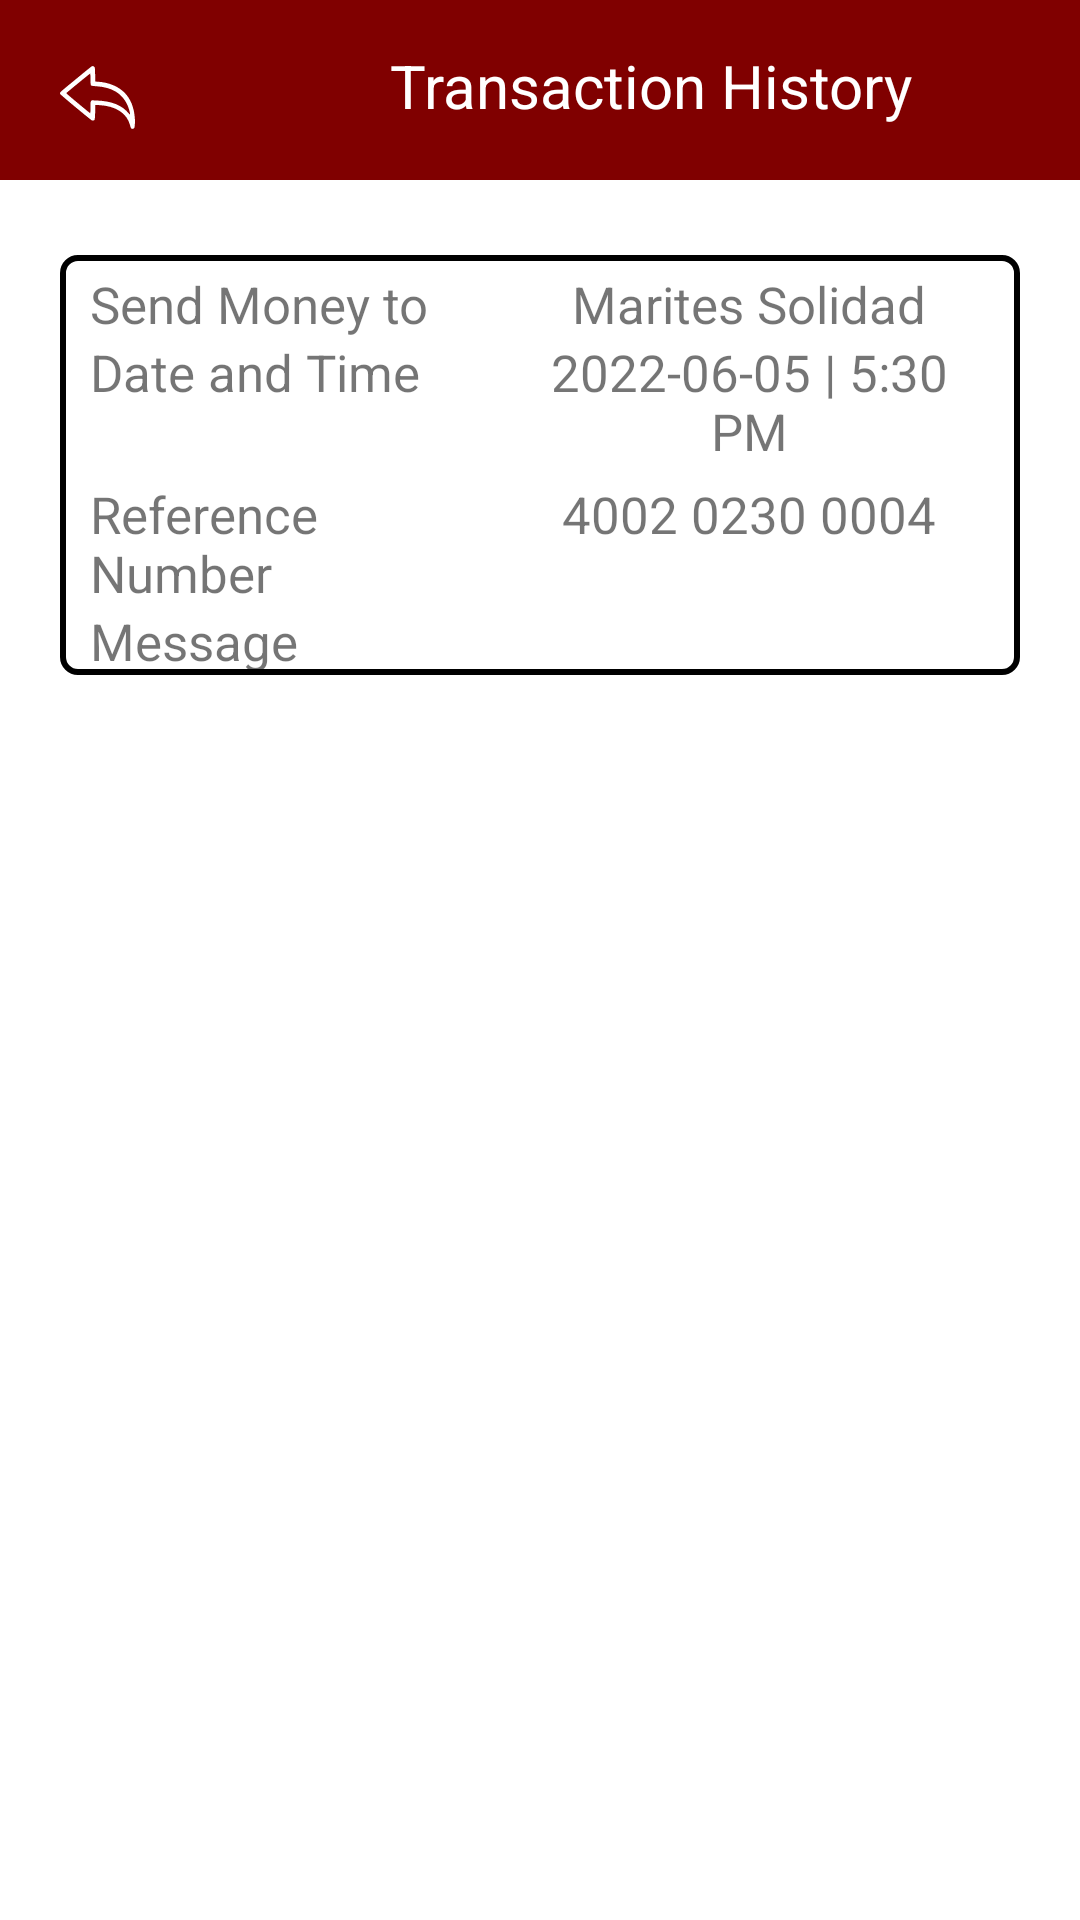

Named icons in this screenshot (1080w x 1920h) and their centers, point (x, y):
back: point (97, 97)
